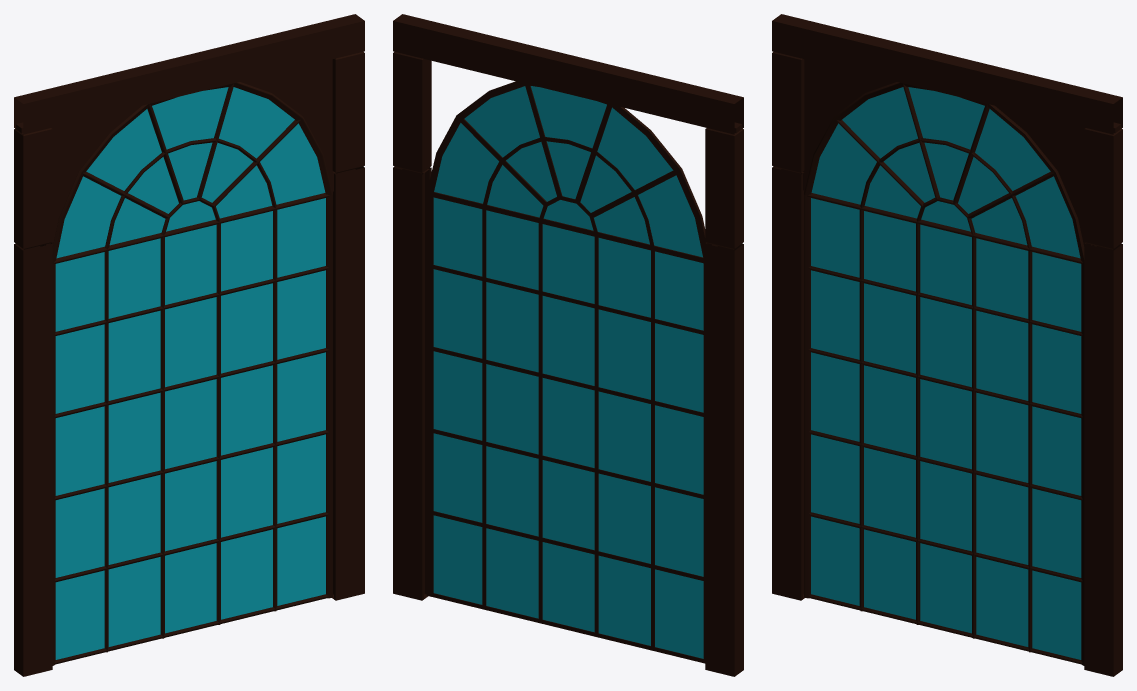
Rendered from Big window.FBX.
3 views of the same model, side by side, from view 1: azimuth 30°, elevation 25°; view 2: azimuth 150°, elevation 25°; view 3: azimuth 330°, elevation 25° (orthographic).
Parts seen in each view (by area): view 1: Window; view 2: Window; view 3: Window.
Boxes of the visible parts, x1,y1,x2,y2 form: Window: (14,14,364,676); Window: (393,14,743,676); Window: (772,14,1122,676).
Bounding box in the file's own units: 259 × 415 × 12.32.
